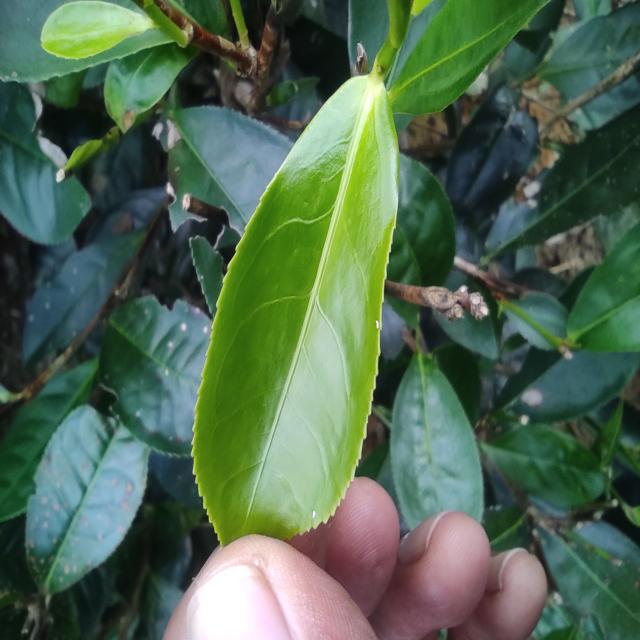Category C 4-7 days: (168, 39, 438, 570)
